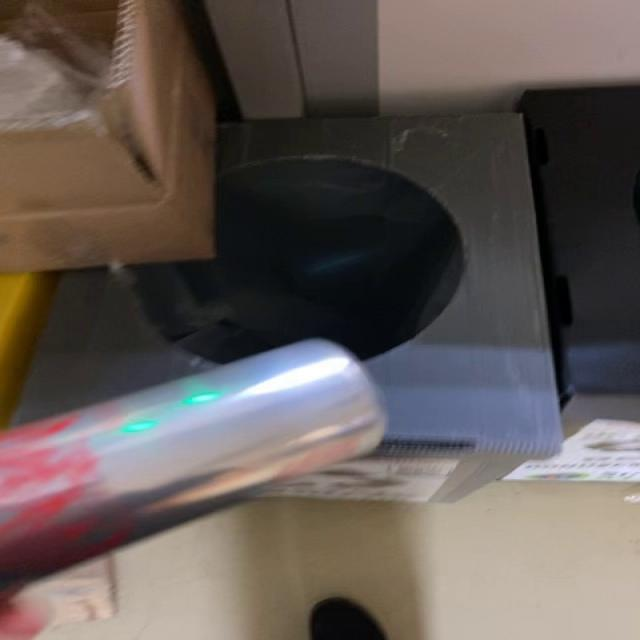bin: (13, 113, 561, 456)
metal: (1, 340, 385, 594)
